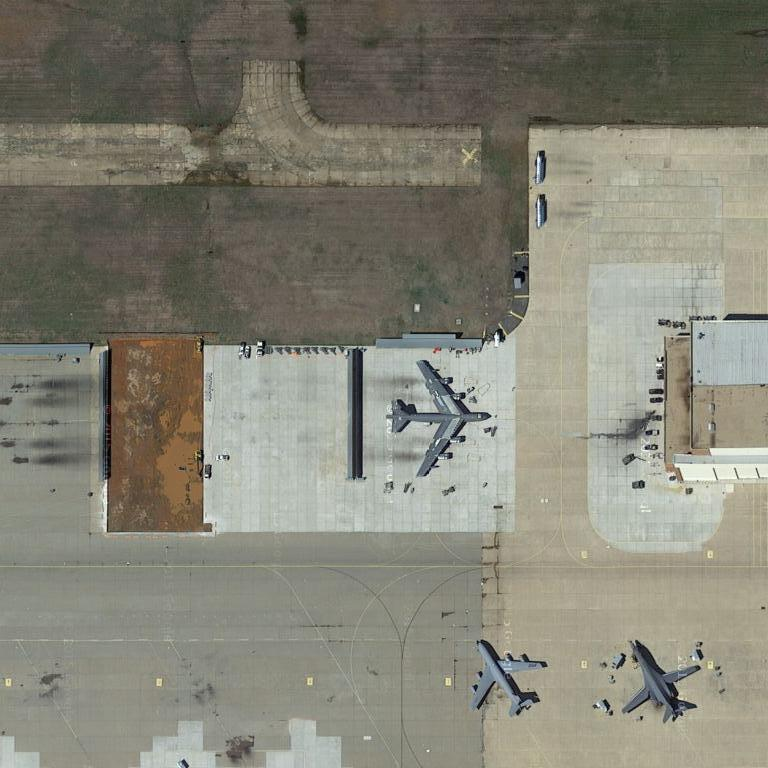B-1B: (620, 641, 700, 723)
B-52: (391, 360, 496, 477)
KC-135: (466, 635, 552, 718)
